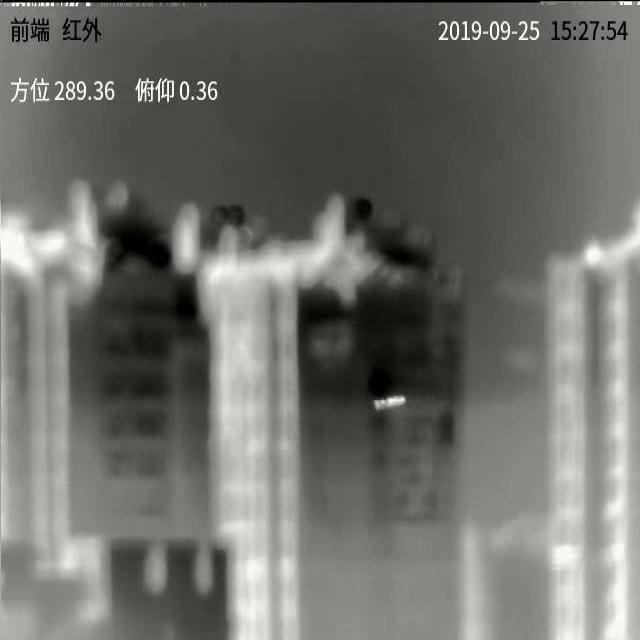drone: (373, 394, 407, 411)
